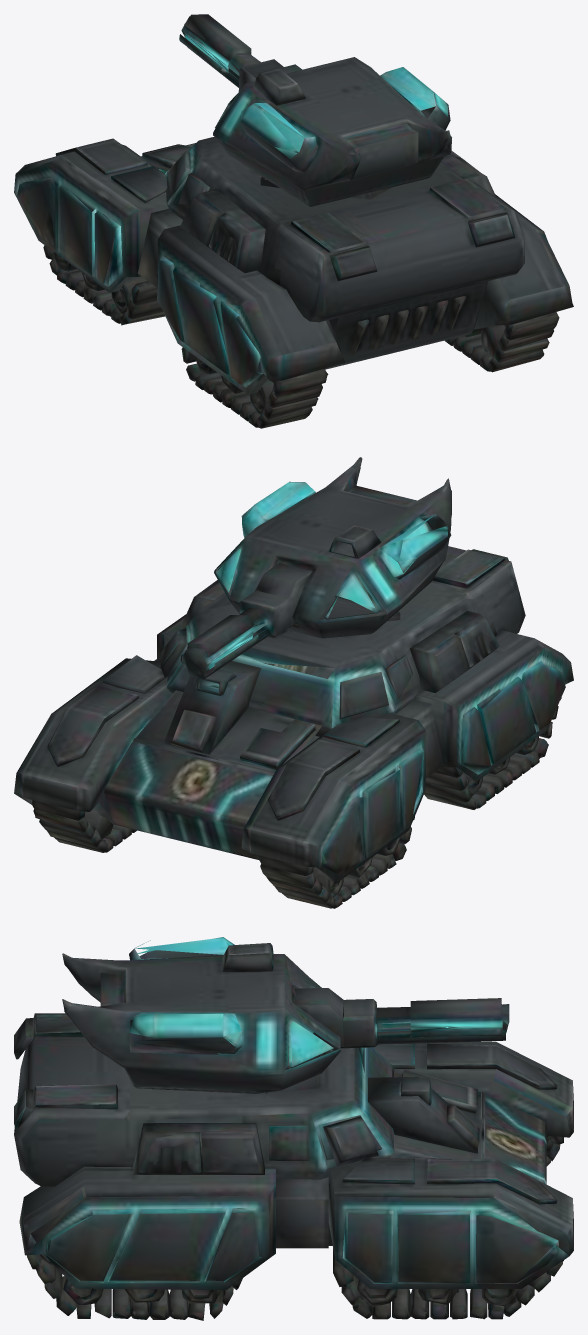
File: cyan_ifv.glb
3 views of the same model, one above another, from view 1: azimuth 30°, elevation 25°; view 2: azimuth 150°, elevation 25°; view 3: azimuth 270°, elevation 25° (orthographic). The views are drawn at different scales.
Visible parts, largest first — view 1: Body, Turret, Barrel, Trim; view 2: Body, Turret, Barrel, Trim; view 3: Body, Turret, Barrel, Trim.
Boxes of the visible parts, box(x1,y1,x2,y2) form: Body: box(14, 136, 573, 428); Turret: box(213, 57, 451, 205); Barrel: box(179, 14, 283, 91); Trim: box(92, 208, 241, 305); Body: box(14, 546, 573, 908); Turret: box(214, 457, 451, 638); Barrel: box(180, 590, 291, 679); Trim: box(167, 635, 543, 813); Body: box(14, 1013, 573, 1320); Turret: box(62, 937, 343, 1090); Barrel: box(342, 998, 509, 1048); Trim: box(103, 1074, 555, 1282).
Size of the model in its own units: 5.03 by 4.14 by 7.43.
Materials: 2 (2 with a texture image).
